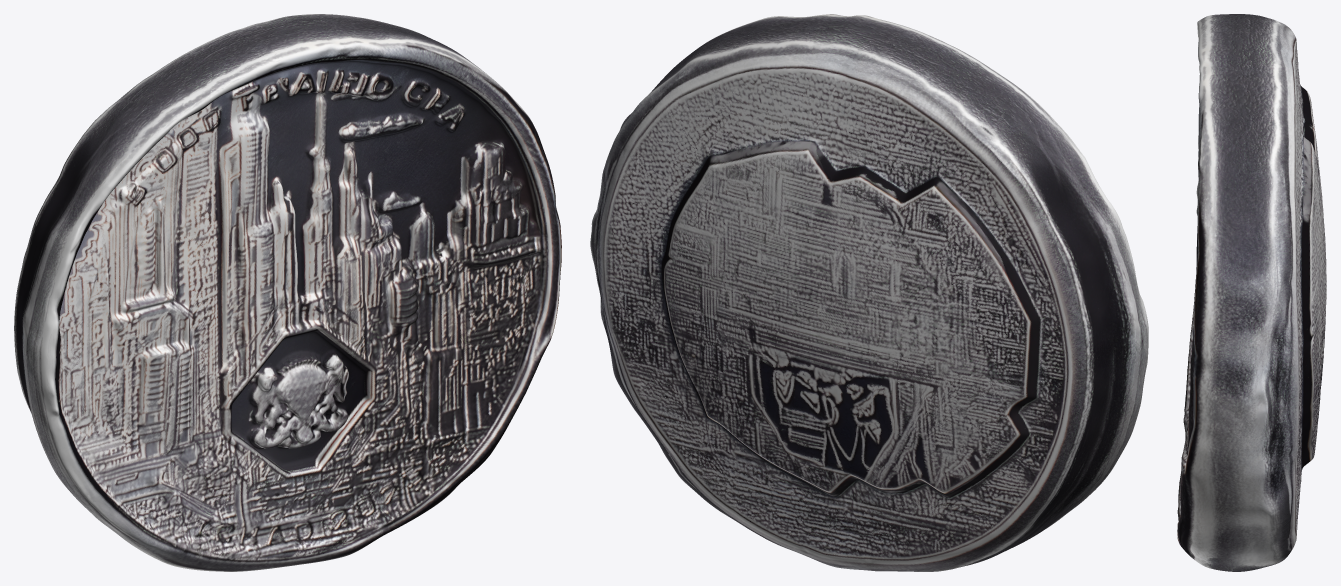
The model's file is coin.glb.
3 views of the same model, side by side, from view 1: azimuth 30°, elevation 25°; view 2: azimuth 150°, elevation 25°; view 3: azimuth 270°, elevation 25° (orthographic). The views are drawn at different scales.
Bounding box in the file's own units: 1.9 × 1.81 × 0.4934.
1 material, 1 textured.
